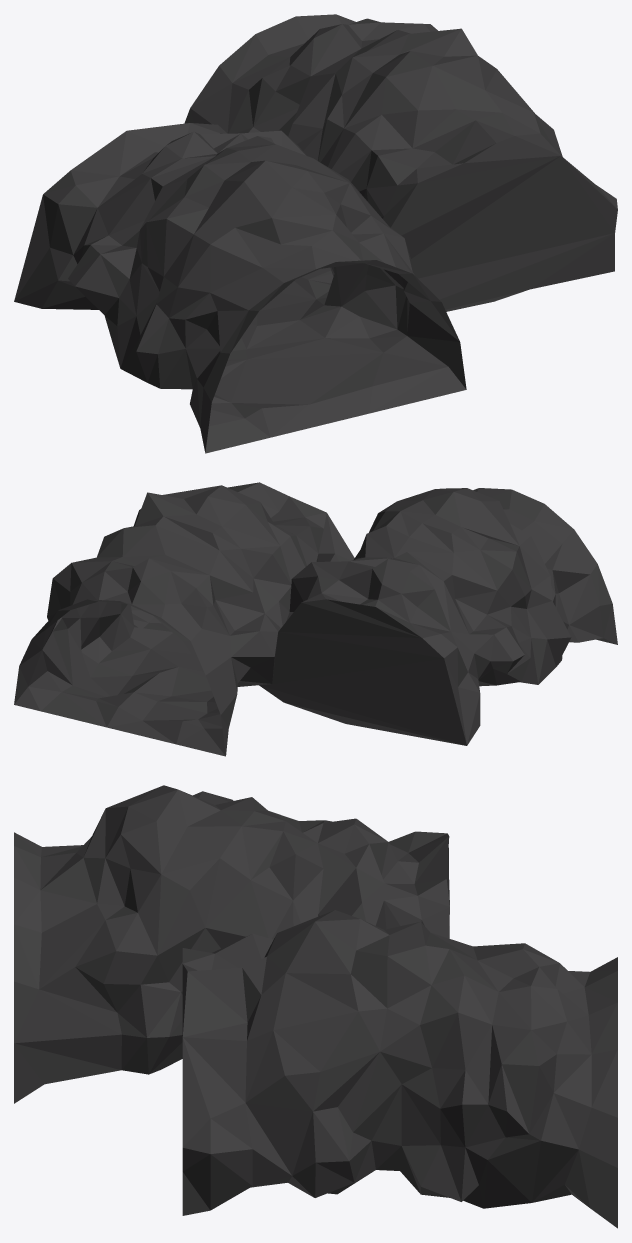
File: Cave_7_LOD_2.fbx
3 views of the same model, one above another, from view 1: azimuth 30°, elevation 25°; view 2: azimuth 150°, elevation 25°; view 3: azimuth 270°, elevation 25° (orthographic). The views are drawn at different scales.
Visible parts, largest first — view 1: Group14435; view 2: Group14435; view 3: Group14435.
Boxes of the visible parts, x1,y1,x2,y2 form: Group14435: [14, 14, 617, 453]; Group14435: [14, 482, 617, 756]; Group14435: [14, 785, 617, 1228].
Size of the model in its own units: 15.94 by 6.32 by 14.32.
